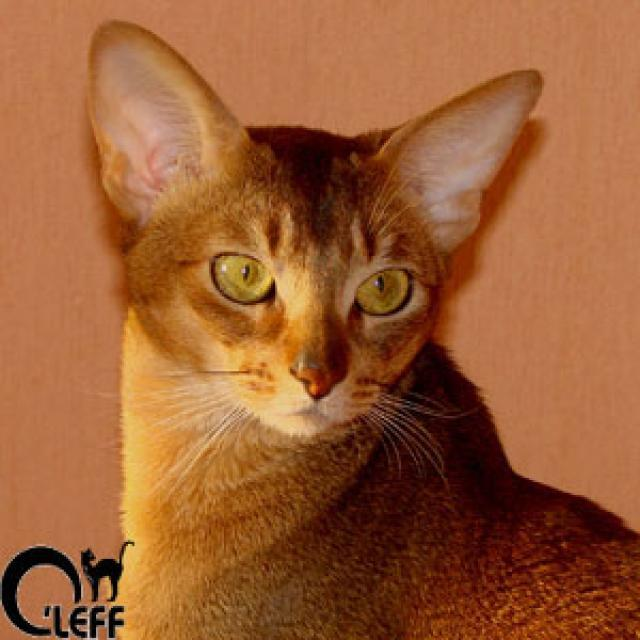Abyssinian: (87, 19, 542, 435)
